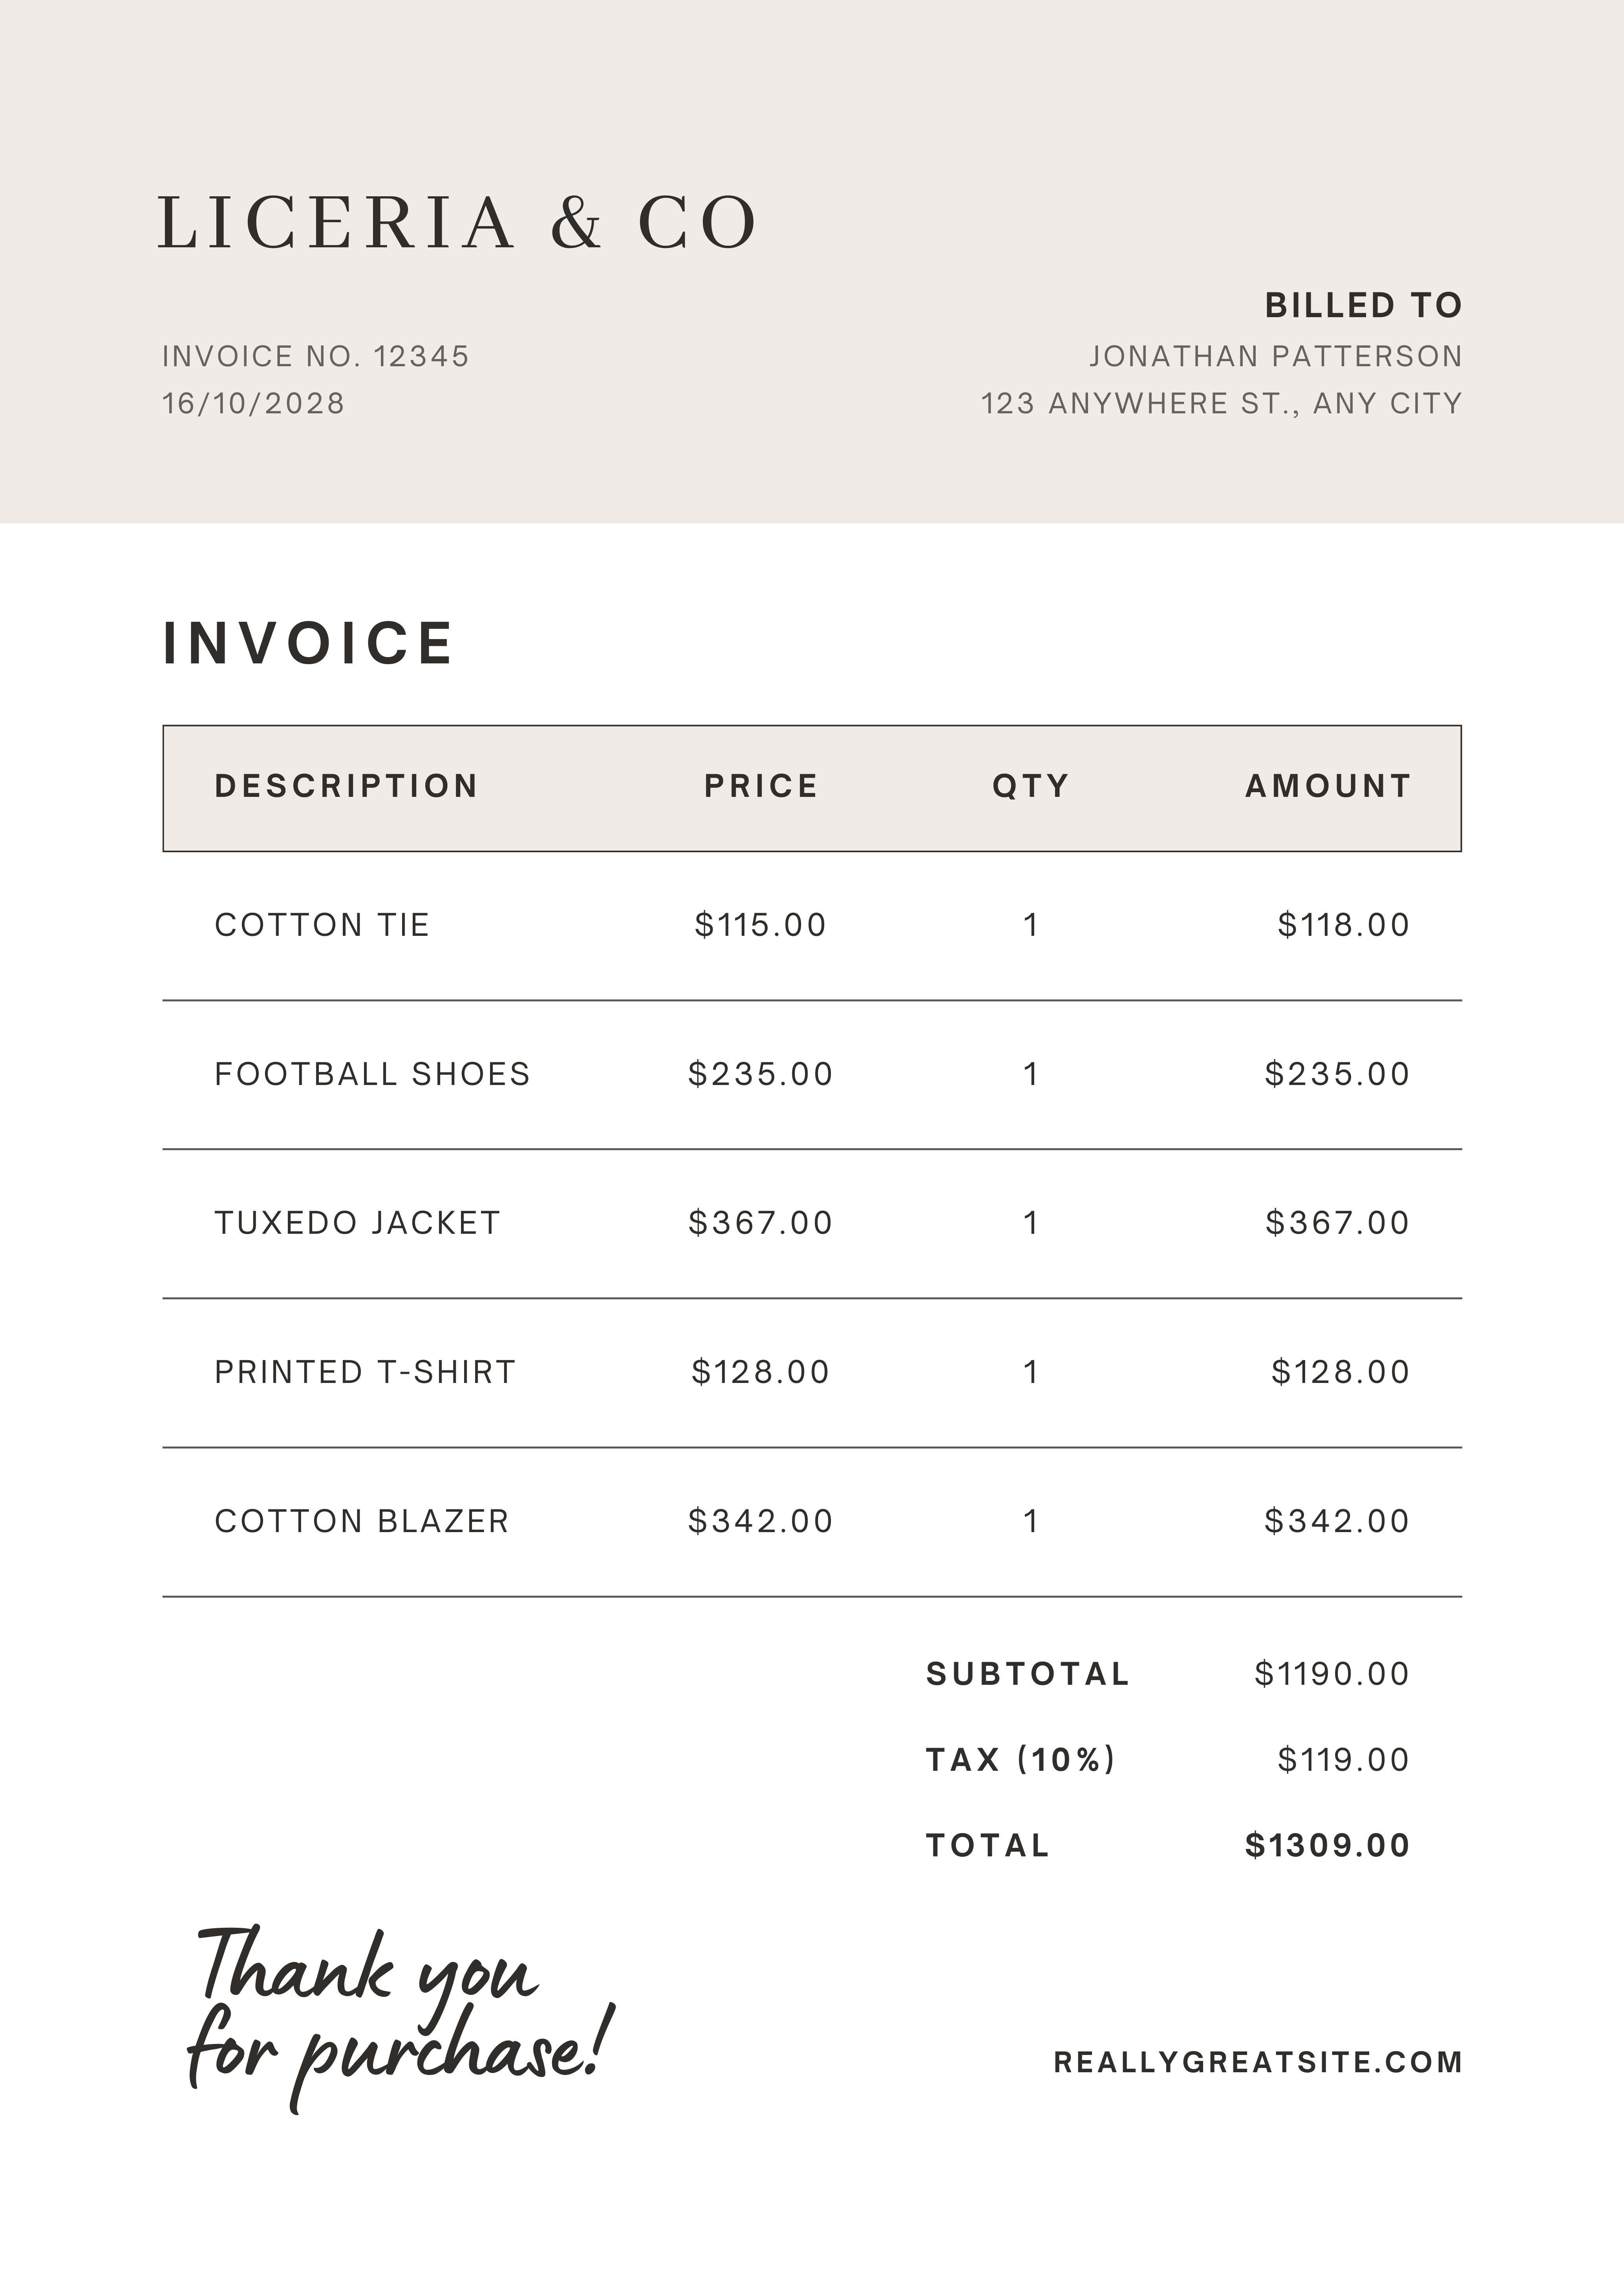ROI: (166, 729, 1458, 1595), (907, 1638, 1459, 1881), (961, 261, 1497, 436), (96, 178, 825, 260), (121, 321, 536, 437)
